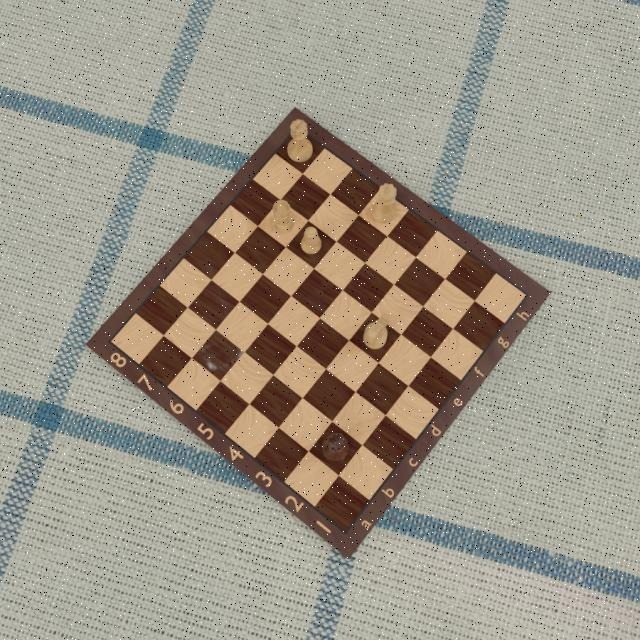white-king: (286, 115, 314, 165)
white-knight: (362, 313, 390, 351)
white-pawn: (299, 223, 325, 257)
white-queen: (369, 182, 401, 228)
white-rook: (267, 198, 297, 238)
